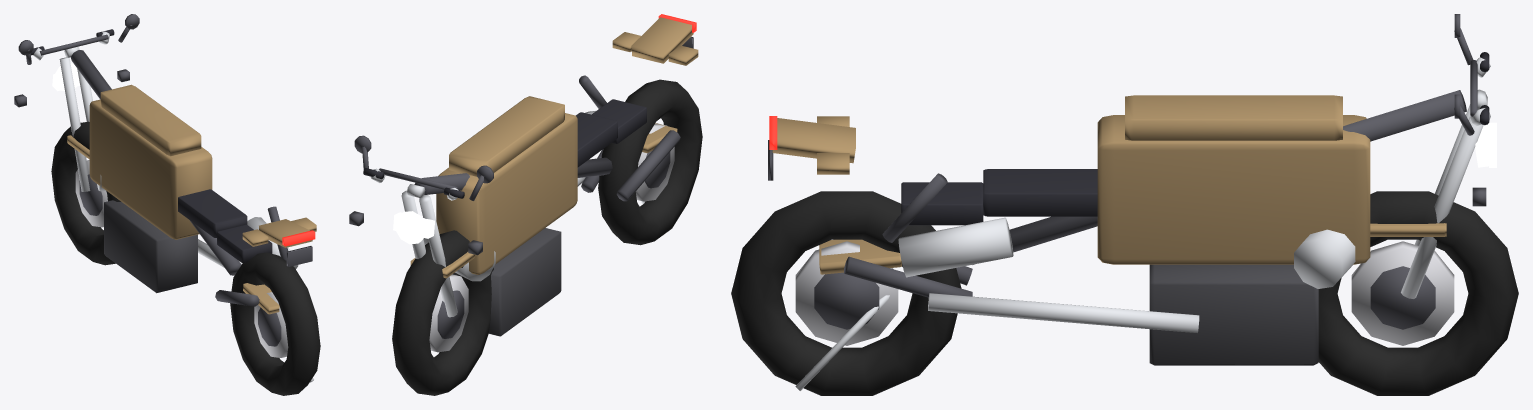
The model's file is bike_scrambler.glb.
3 renders of one model, left to right at view 1: azimuth 30°, elevation 25°; view 2: azimuth 150°, elevation 25°; view 3: azimuth 270°, elevation 25°, orthographic. The views are drawn at different scales.
Parts seen in each view (by area): view 1: Tank, Tire1, Engine, Tire0, TankTop, Seat, FrameMain, Fork-1, SeatRear, Tail, Rim1, Hub_Rim1 (+12 smaller); view 2: Tank, Tire1, Tire0, Engine, TankTop, Tail, Seat, Swingarm_R, SeatRear, FrameMain, Fork-1, Rim0 (+12 smaller); view 3: Tank, Tire1, Tire0, Engine, TankTop, Seat, ExhPipe, Rim0, ExhCan, FrameMain, Rim1, SeatRear (+11 smaller).
Part boxes in pixels (x1,y1,x2,y2): Tank: [89, 99, 212, 239]; Tire1: [230, 252, 320, 395]; Engine: [104, 200, 197, 293]; Tire0: [51, 121, 121, 265]; TankTop: [100, 84, 201, 156]; Seat: [178, 189, 247, 237]; FrameMain: [70, 50, 241, 275]; Fork-1: [59, 57, 90, 191]; SeatRear: [217, 224, 272, 263]; Tail: [259, 219, 312, 247]; Rim1: [254, 292, 288, 357]; Hub_Rim1: [258, 307, 281, 346]; Tank: [436, 113, 577, 274]; Tire1: [598, 79, 702, 245]; Tire0: [392, 230, 493, 395]; Engine: [453, 228, 561, 336]; TankTop: [449, 96, 564, 176]; Tail: [631, 17, 693, 63]; Seat: [576, 112, 617, 167]; Swingarm_R: [616, 130, 680, 201]; SeatRear: [592, 99, 646, 143]; FrameMain: [414, 157, 612, 194]; Fork-1: [419, 195, 457, 317]; Rim0: [429, 274, 468, 352]; Tank: [1097, 115, 1370, 264]; Tire1: [731, 191, 961, 395]; Tire0: [1318, 191, 1518, 395]; Engine: [1149, 264, 1318, 365]; TankTop: [1125, 95, 1342, 140]; Seat: [983, 169, 1097, 216]; ExhPipe: [928, 293, 1199, 332]; Rim0: [1351, 241, 1454, 345]; ExhCan: [898, 217, 1013, 277]; FrameMain: [972, 90, 1466, 264]; Rim1: [795, 241, 898, 345]; SeatRear: [901, 182, 983, 225].
Bounding box in the file's own units: 0.7856 × 1.38 × 2.89.
